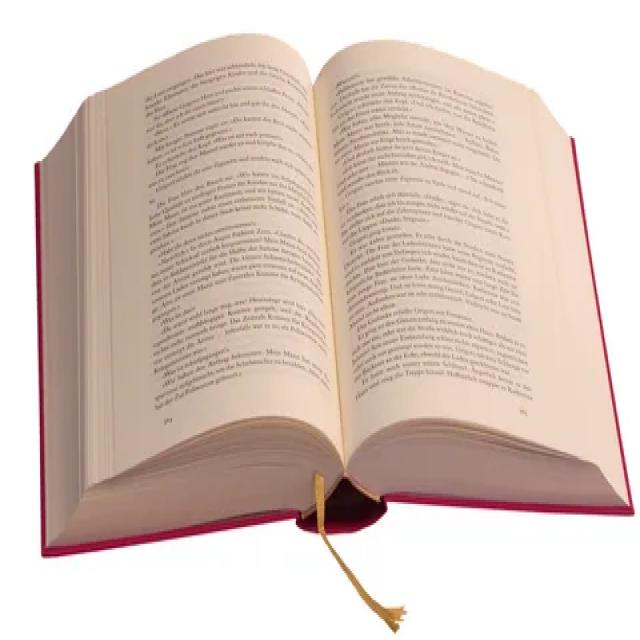book: (19, 21, 640, 603)
